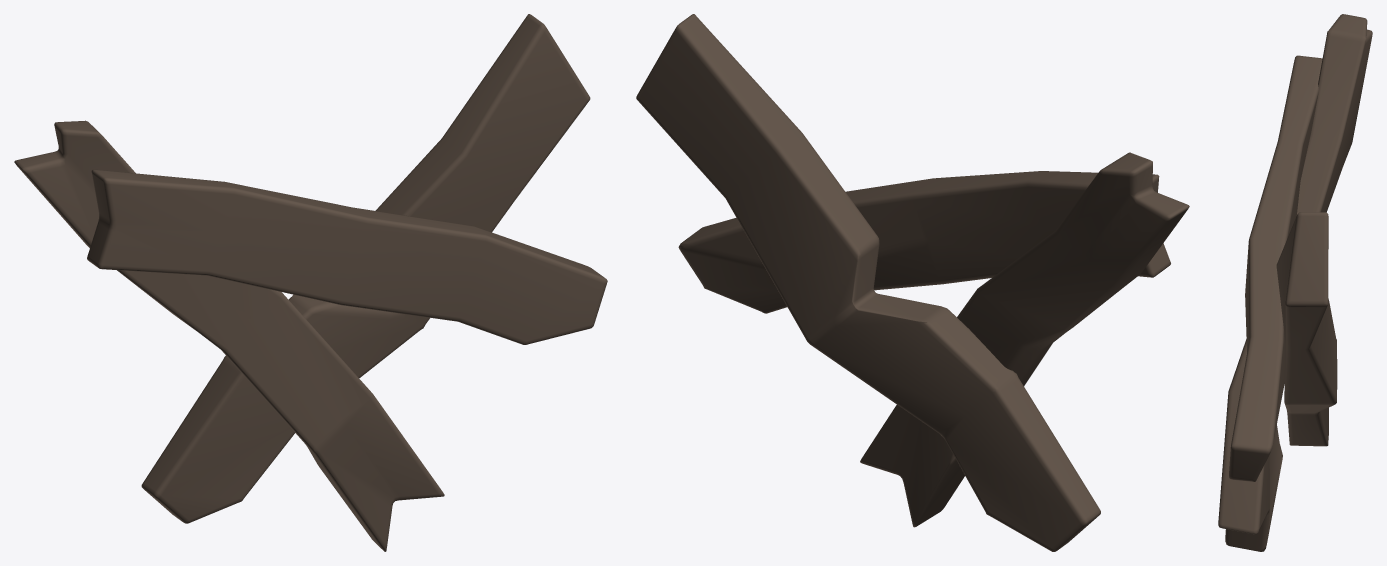
File: Tile_Arrow_Dispenser_Planks.fbx
The picture shows the model from 3 angles, left to right: view 1: azimuth 30°, elevation 25°; view 2: azimuth 150°, elevation 25°; view 3: azimuth 270°, elevation 25°; orthographic projection. The views are drawn at different scales.
Parts seen in each view (by area): view 1: Cube.023; view 2: Cube.023; view 3: Cube.023.
Boxes of the visible parts, x1,y1,x2,y2 form: Cube.023: (14,14,607,551); Cube.023: (636,14,1189,551); Cube.023: (1218,14,1372,551).
Size of the model in its own units: 172 by 139 by 45.85.
Materials: 1 (1 with a texture image).
